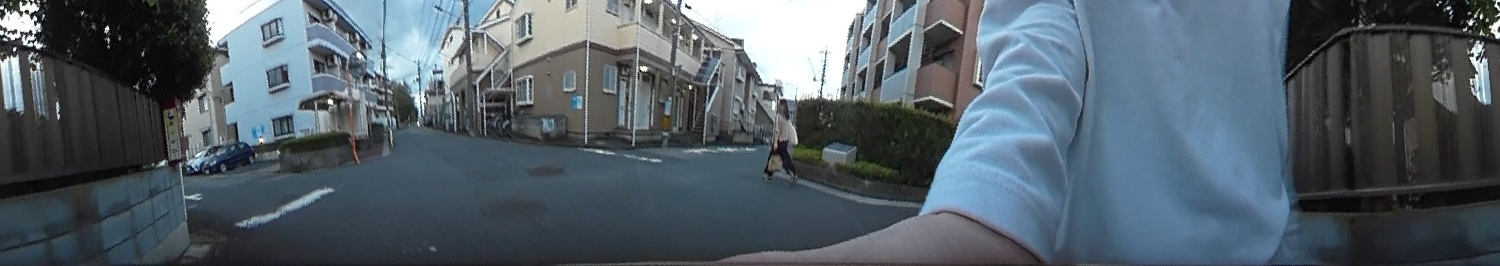person: (757, 97, 799, 185)
